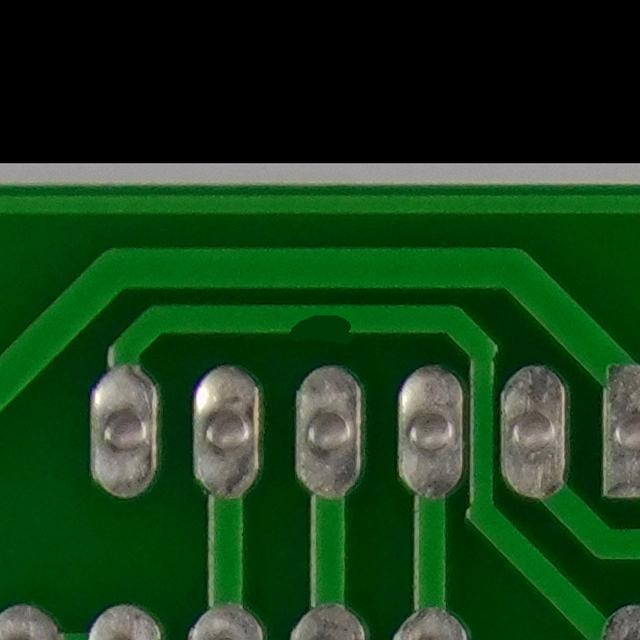mouse_bite: (271, 289, 369, 350)
